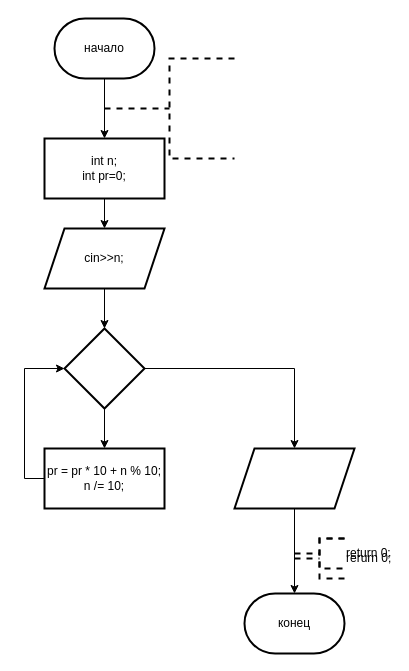
Some shapes in this 409 by 671 pixel diagram are drawn without their labels. Each missing label, with the box of its shape:
#include <iostream> using namespace std; int main() {: (103, 57, 235, 159)
cout << pr;: (233, 447, 355, 509)
while(n>0): (63, 327, 145, 409)
